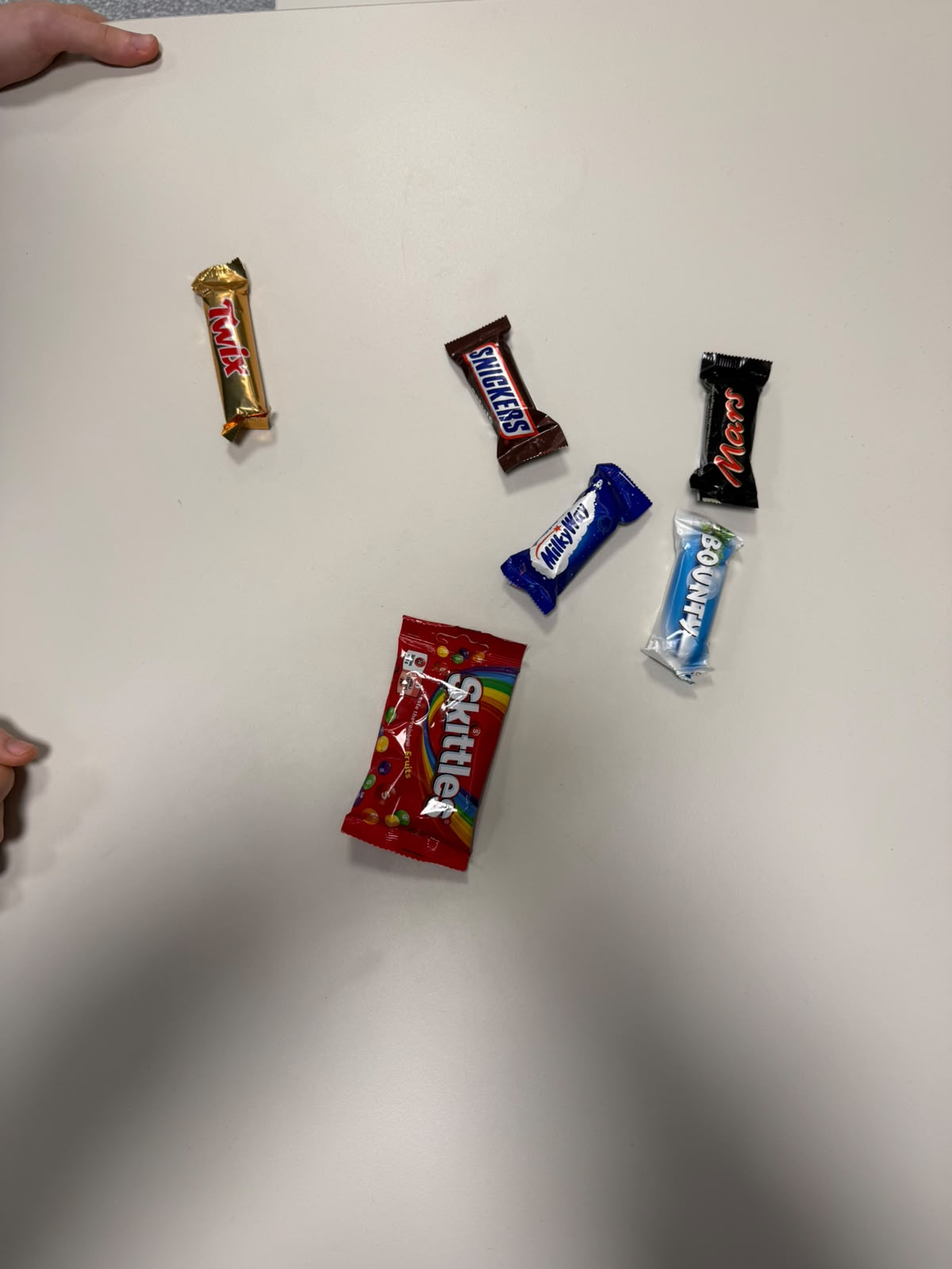Bounty: (687, 502, 753, 685)
Mars: (712, 341, 778, 505)
MilkyWay: (622, 440, 686, 640)
Skittles: (409, 581, 549, 868)
Snickers: (440, 328, 513, 500)
Twix: (174, 261, 253, 463)
